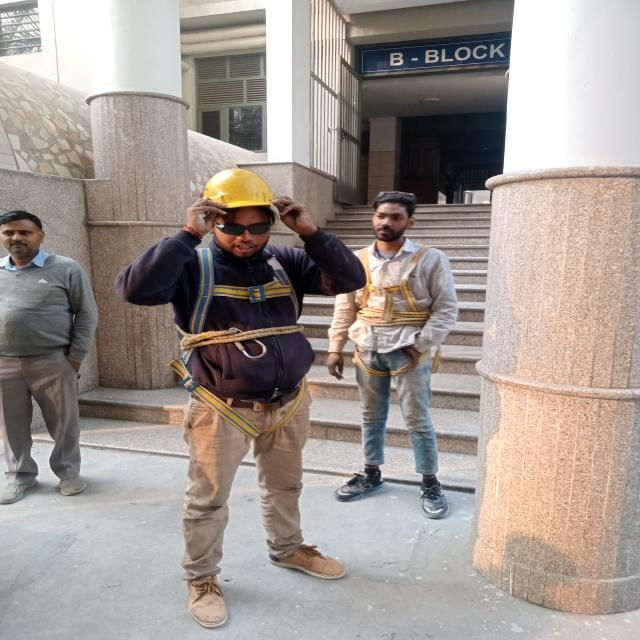no jacket: (122, 168, 365, 617)
unsafe: (323, 189, 460, 526), (0, 203, 105, 517)
